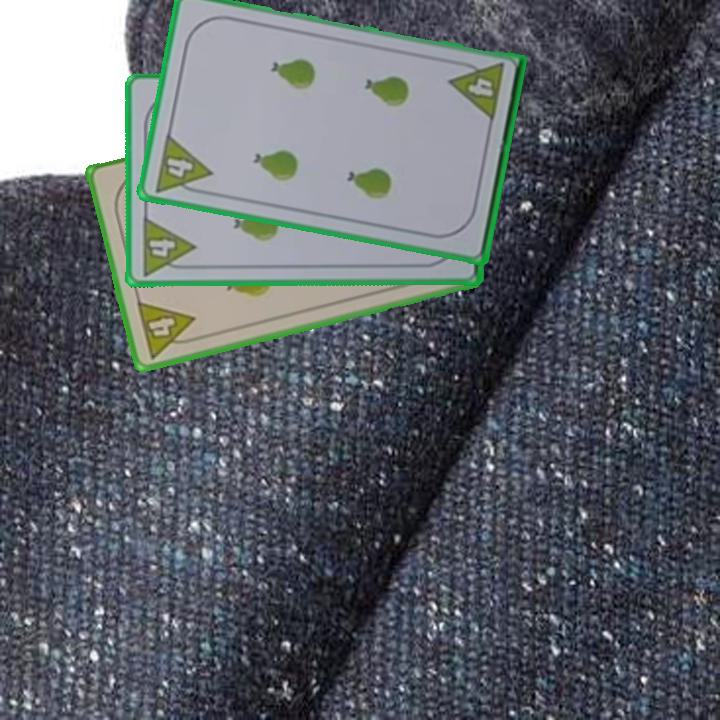4p: (133, 297, 203, 361), (151, 130, 215, 199), (446, 57, 507, 124), (139, 213, 198, 278)
